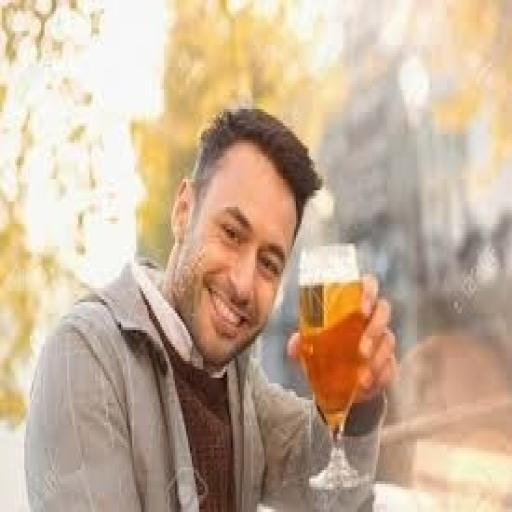drinking: (296, 240, 374, 490)
